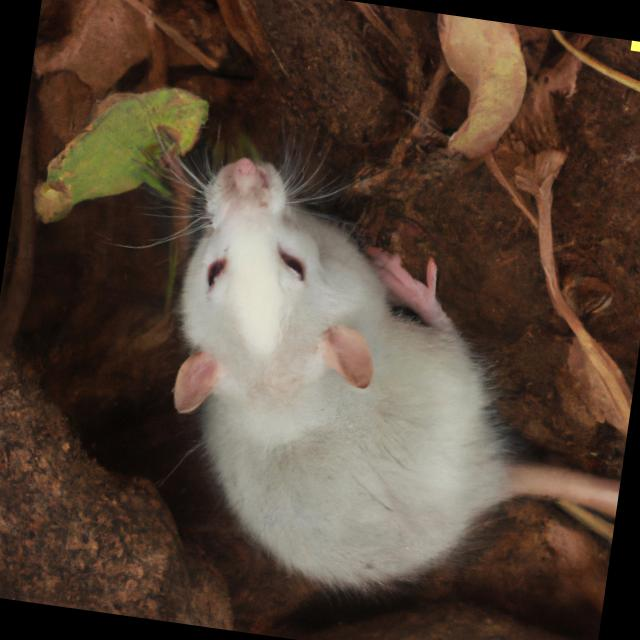rodents: (117, 125, 557, 632)
